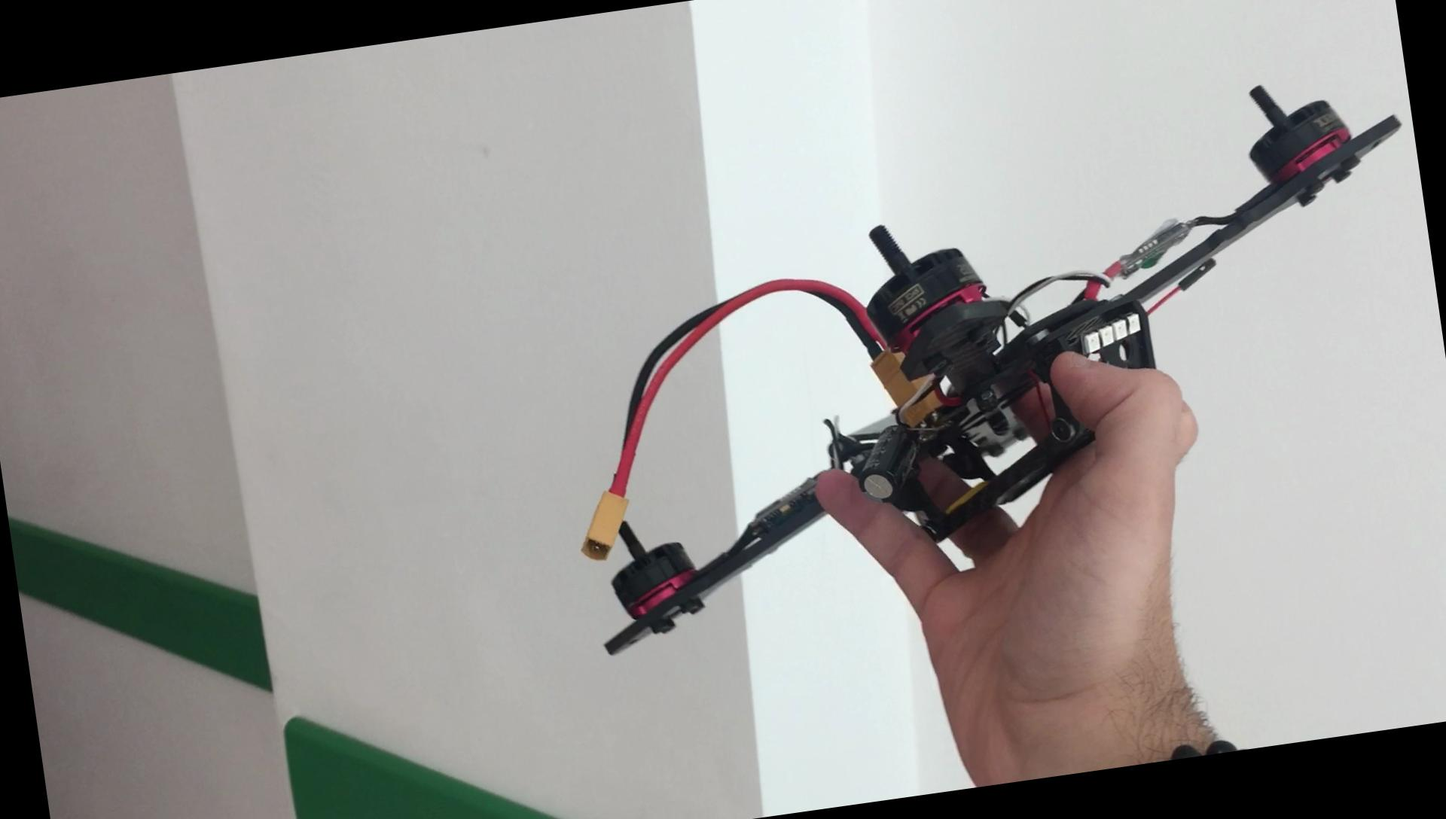drone: (511, 38, 1446, 693)
